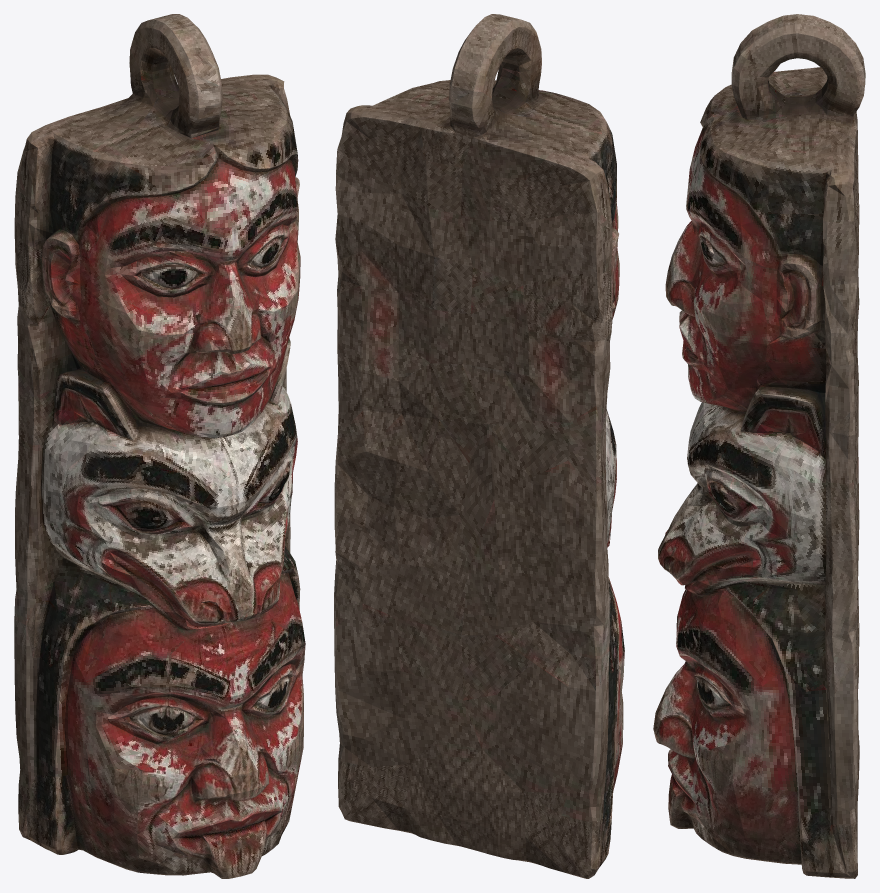
Rendered from ewm_wardtotem.glb.
3 renders of one model, left to right at view 1: azimuth 30°, elevation 25°; view 2: azimuth 150°, elevation 25°; view 3: azimuth 270°, elevation 25°, orthographic.
Visible parts, largest first — view 1: ewm_wardtotem; view 2: ewm_wardtotem; view 3: ewm_wardtotem.
Boxes of the visible parts, x1,y1,x2,y2 form: ewm_wardtotem: (14, 14, 305, 878); ewm_wardtotem: (334, 14, 624, 878); ewm_wardtotem: (653, 14, 865, 878).
Bounding box in the file's own units: 0.0521 × 0.15 × 0.036.
1 material, 1 textured.
